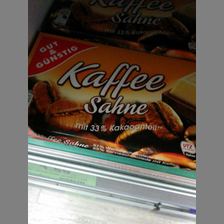chocolate: (28, 33, 196, 170)
